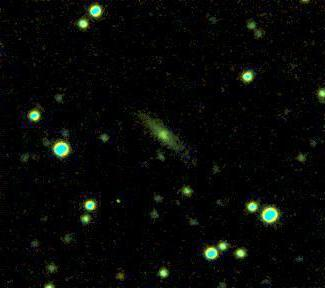star: (100, 259, 130, 288)
